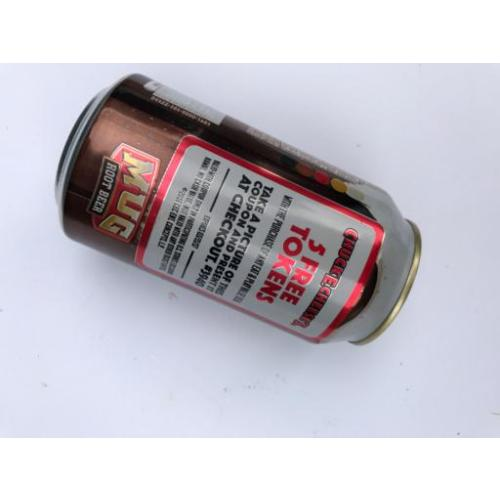metal: (63, 76, 419, 344)
